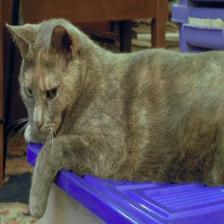cat: (4, 11, 95, 143)
